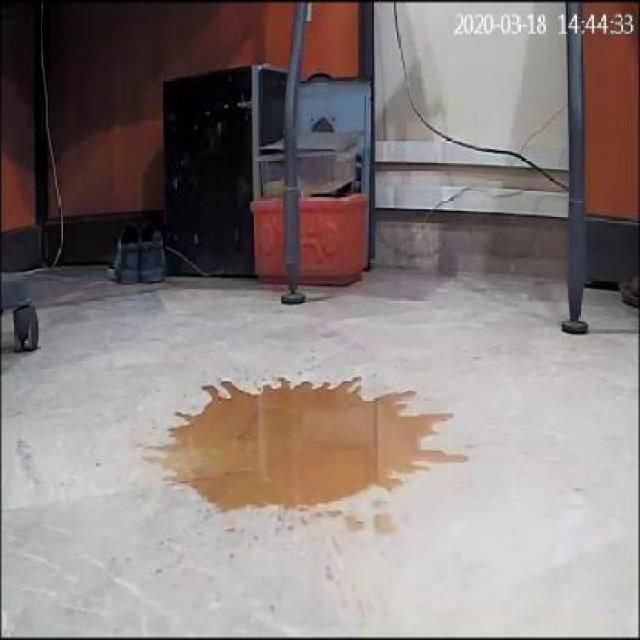spill: (145, 368, 468, 524)
